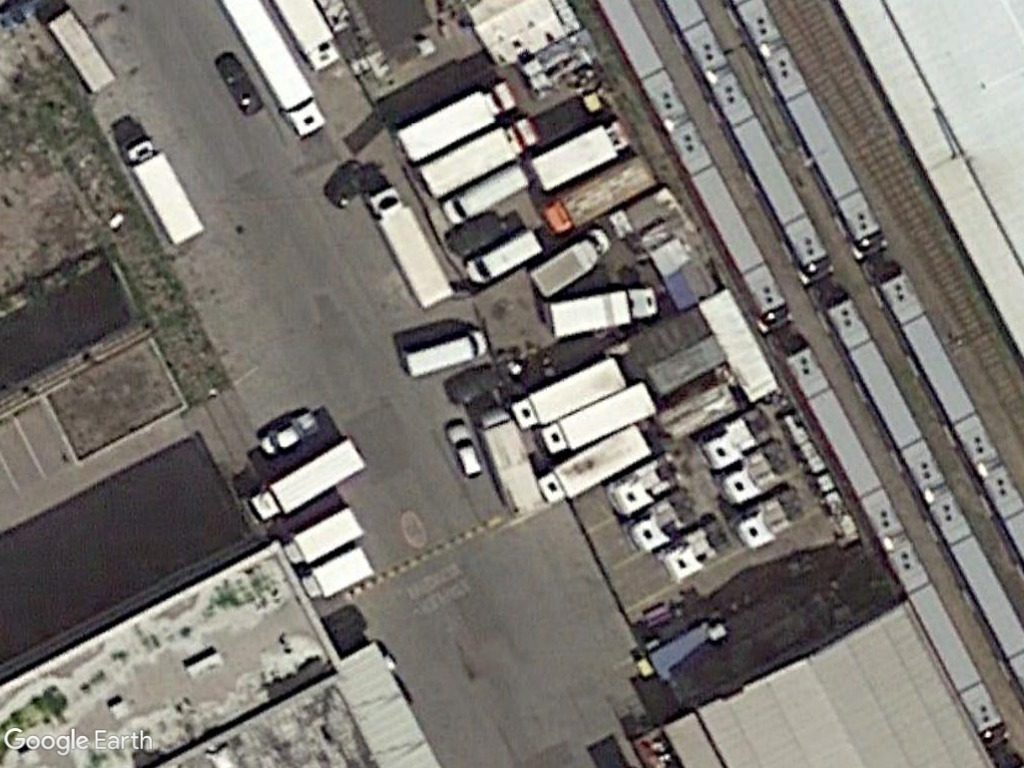car: (253, 405, 324, 463), (442, 418, 487, 486)
truck: (221, 5, 326, 134), (365, 179, 458, 315), (246, 431, 366, 531), (387, 78, 517, 168), (414, 111, 541, 202), (117, 134, 208, 253), (535, 421, 653, 511), (538, 155, 665, 237), (512, 353, 638, 434), (539, 379, 661, 457), (525, 113, 635, 198), (474, 402, 546, 523), (543, 281, 667, 343), (519, 226, 618, 299)
van: (456, 220, 562, 297), (434, 157, 537, 231), (393, 326, 497, 388)
